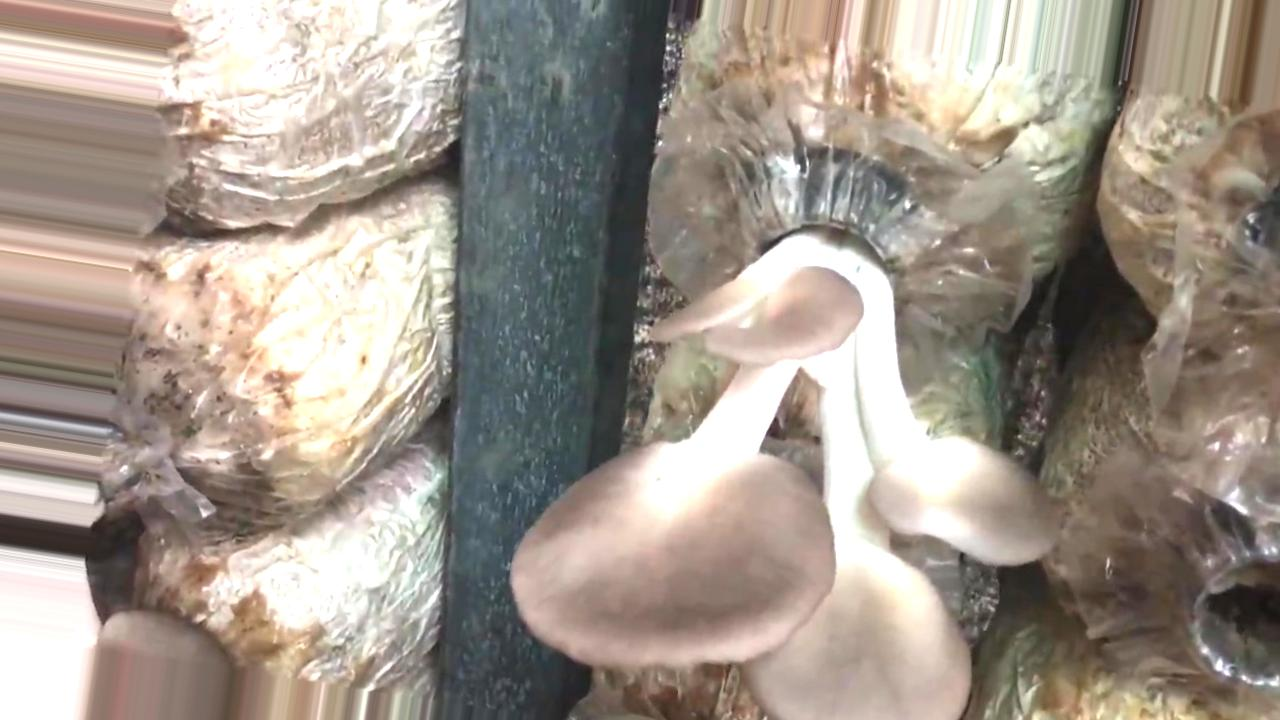nam: (511, 162, 1061, 720), (87, 607, 232, 720)
